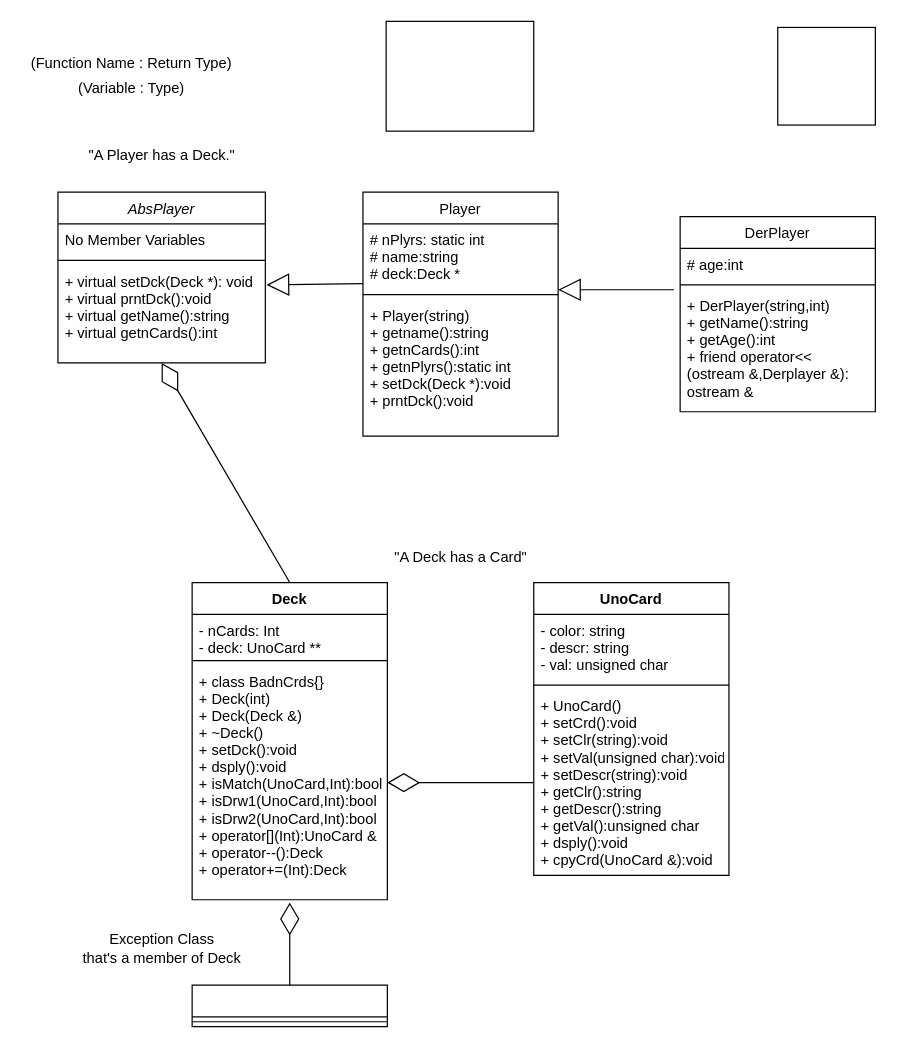
Image size: 897x1048. Some labels were removed from this diagram. The centre of each missing label's shape, as x and y in pixels:
+ (Public) - (Private) # (Protected): point 826,75
BadnCrds: point 289,1005
UML Diagrams V.14: point 459,75
